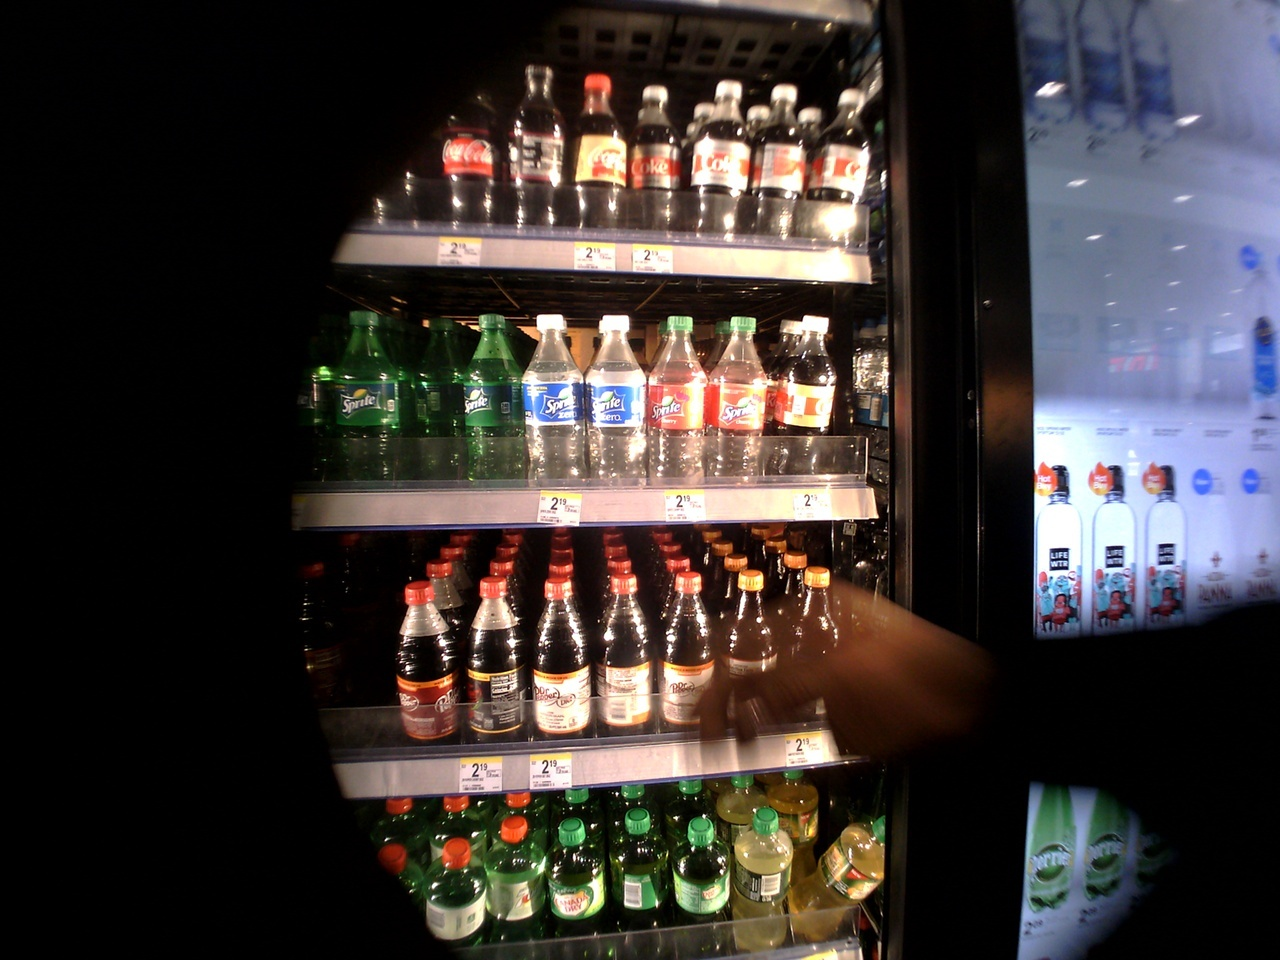shelf: (285, 523, 932, 771), (295, 290, 888, 537), (306, 38, 856, 292), (290, 773, 914, 949)
